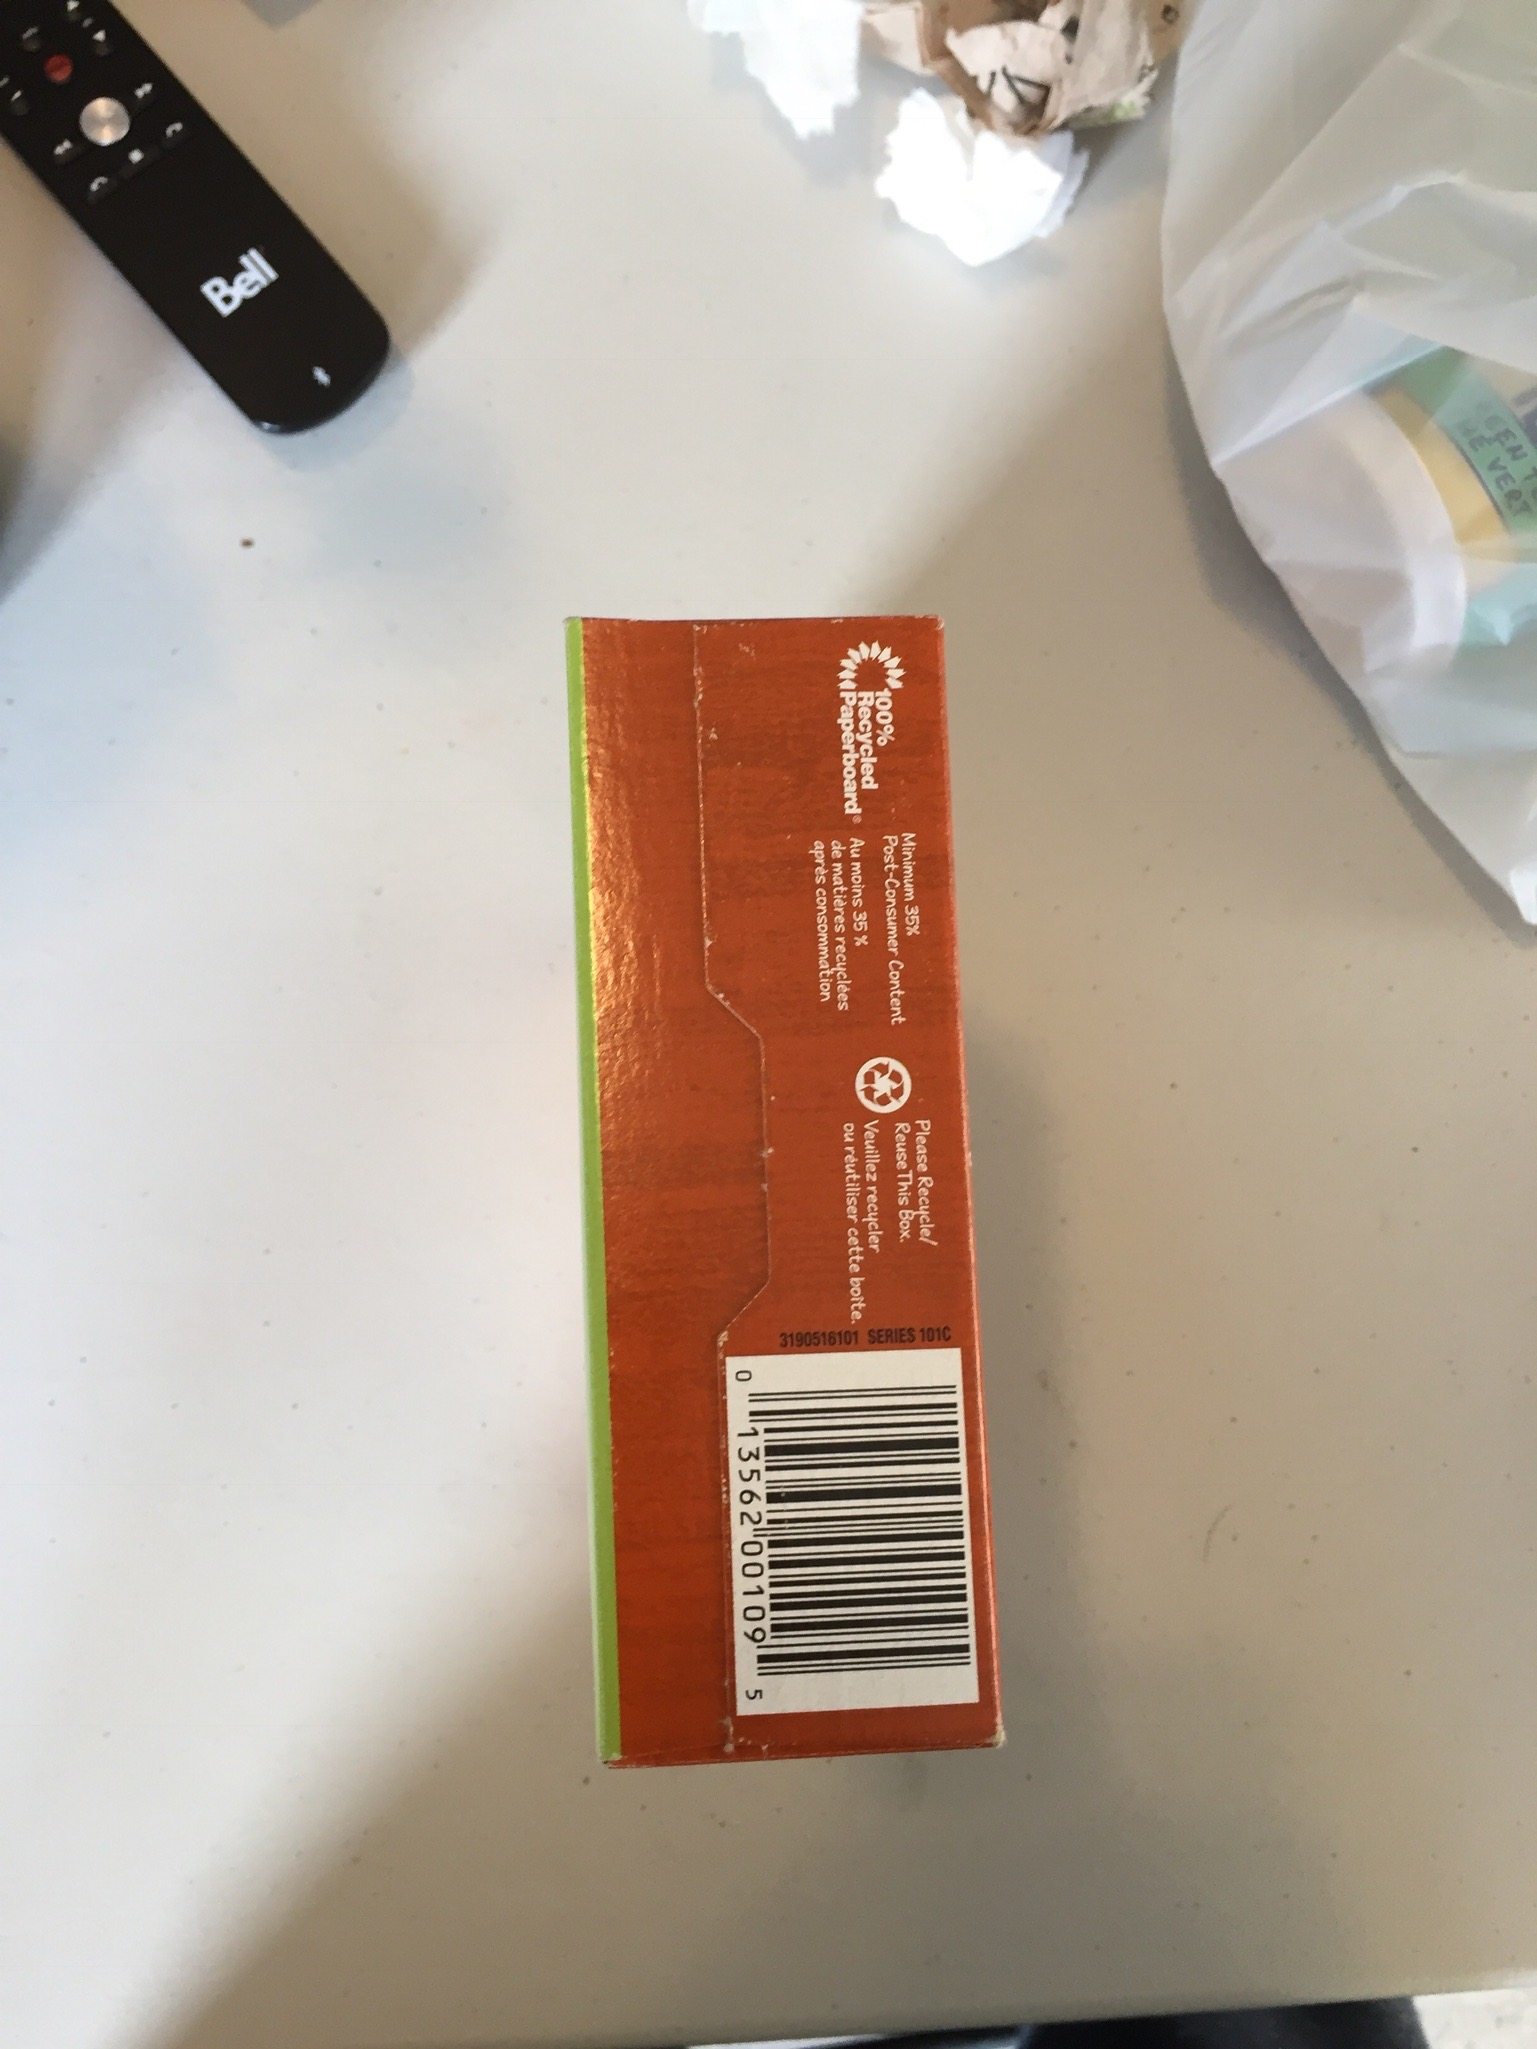annies_snickerdoodle_cinnamon_sugar: (580, 623, 988, 1760)
